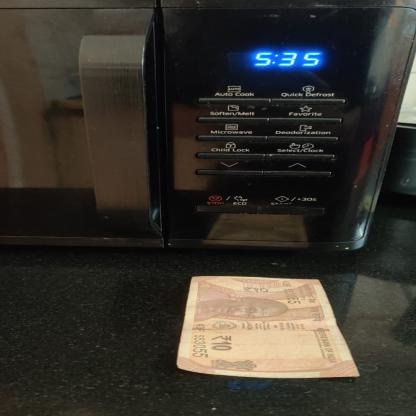New10Front: (172, 276, 363, 380)
